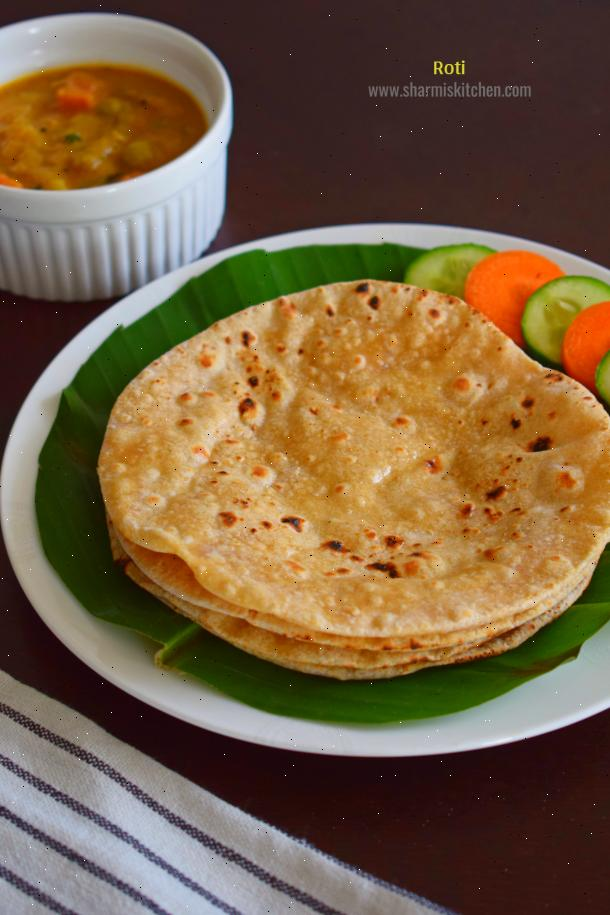roti phulka: (93, 270, 610, 676)
